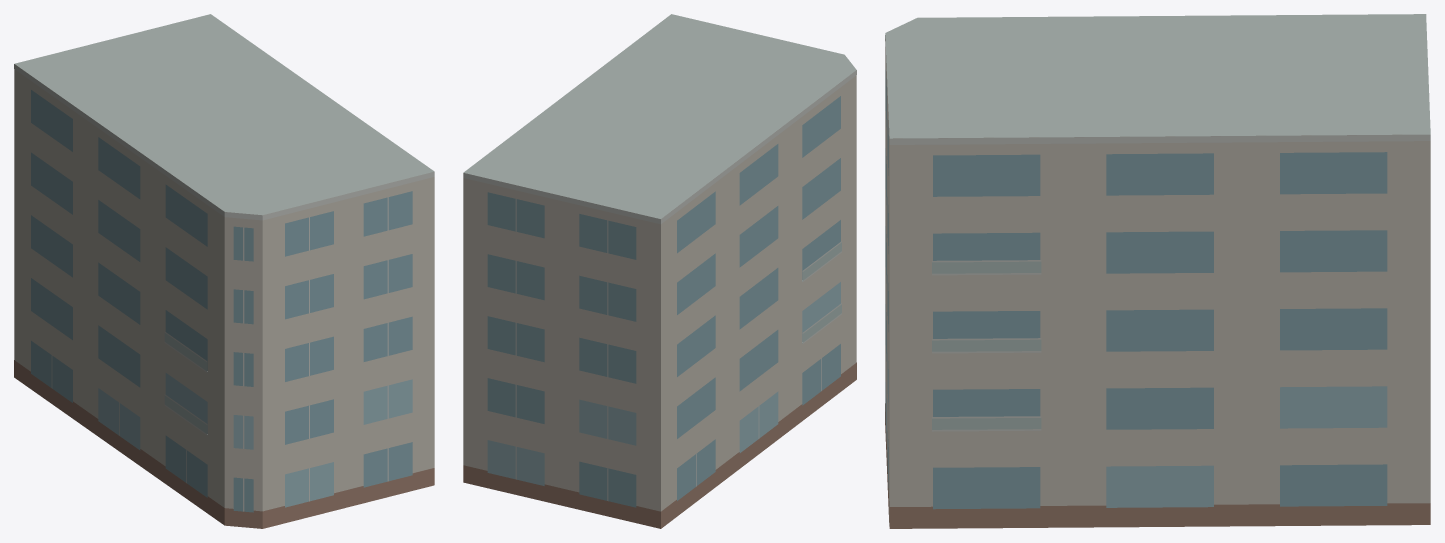
Rendered from survey-upis-32924833.glb.
3 views of the same model, side by side, from view 1: azimuth 30°, elevation 25°; view 2: azimuth 150°, elevation 25°; view 3: azimuth 270°, elevation 25° (orthographic). The views are drawn at different scales.
Parts seen in each view (by area): view 1: survey-upis-32924833.tmp; view 2: survey-upis-32924833.tmp; view 3: survey-upis-32924833.tmp.
Boxes of the visible parts, x1,y1,x2,y2 form: survey-upis-32924833.tmp: (14, 14, 434, 528); survey-upis-32924833.tmp: (463, 14, 856, 528); survey-upis-32924833.tmp: (885, 14, 1430, 528).
Size of the model in its own units: 10 by 14.6 by 18.5.
